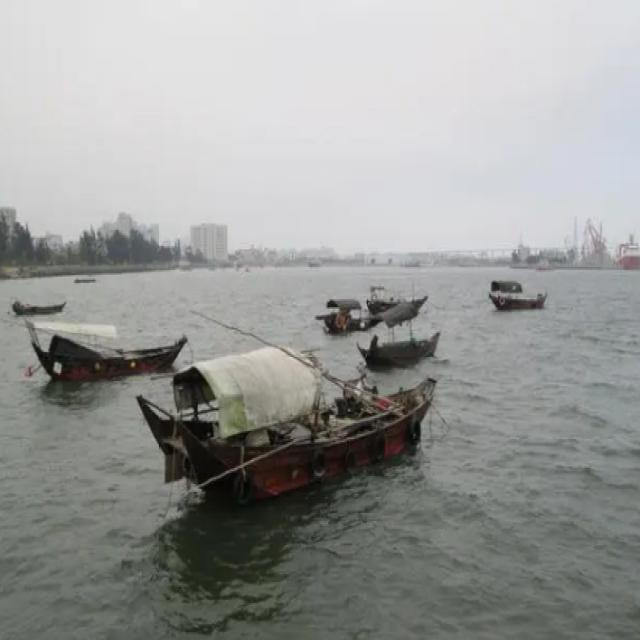fishing boat: (151, 322, 447, 502), (26, 306, 188, 382), (368, 298, 440, 366), (366, 264, 432, 316), (320, 282, 372, 340), (488, 265, 547, 312), (10, 294, 66, 314)
